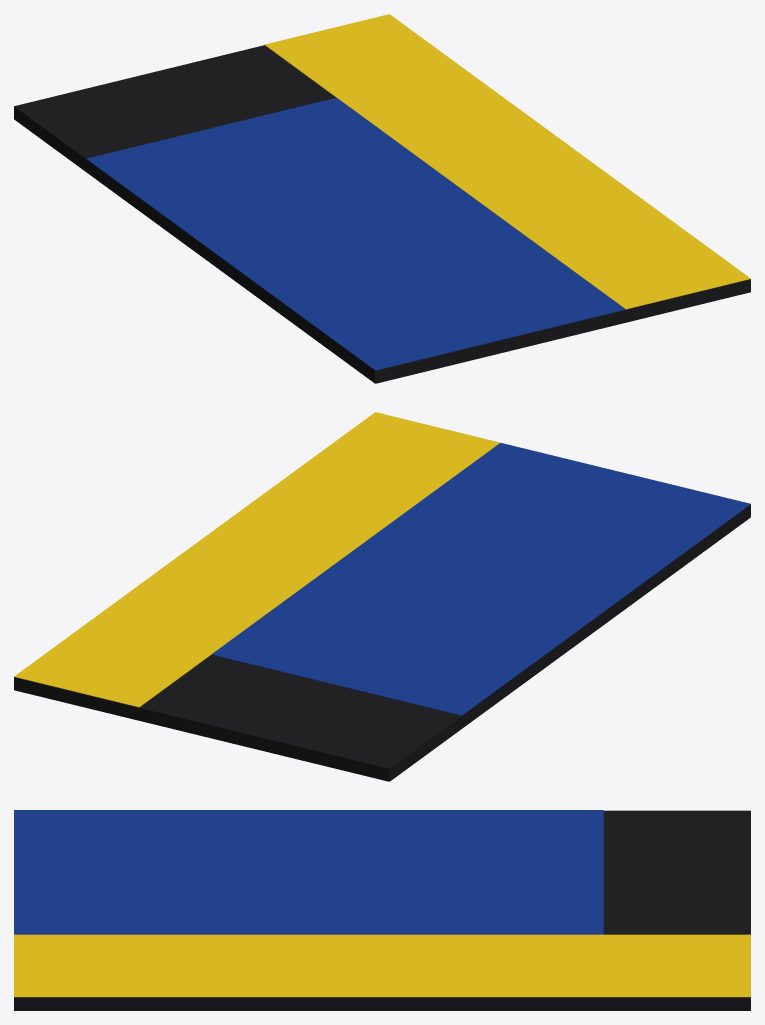
The model's file is road.feature.parking_accessible.glb.
3 renders of one model, top to bottom at view 1: azimuth 30°, elevation 25°; view 2: azimuth 150°, elevation 25°; view 3: azimuth 270°, elevation 25°, orthographic.
Visible parts, largest first — view 1: main__plastic_blue, main__plastic_yellow, main__asphalt; view 2: main__plastic_blue, main__plastic_yellow, main__asphalt; view 3: main__plastic_blue, main__plastic_yellow, main__asphalt.
Boxes of the visible parts, bbox=[...] form: main__plastic_blue: bbox=[86, 97, 625, 370]; main__plastic_yellow: bbox=[264, 14, 750, 309]; main__asphalt: bbox=[14, 45, 750, 383]; main__plastic_blue: bbox=[211, 442, 750, 715]; main__plastic_yellow: bbox=[14, 412, 499, 707]; main__asphalt: bbox=[14, 504, 750, 781]; main__plastic_blue: bbox=[14, 810, 603, 934]; main__plastic_yellow: bbox=[14, 934, 750, 997]; main__asphalt: bbox=[14, 810, 750, 1010].
Bounding box in the file's own units: 3.6 × 0.125 × 6.
